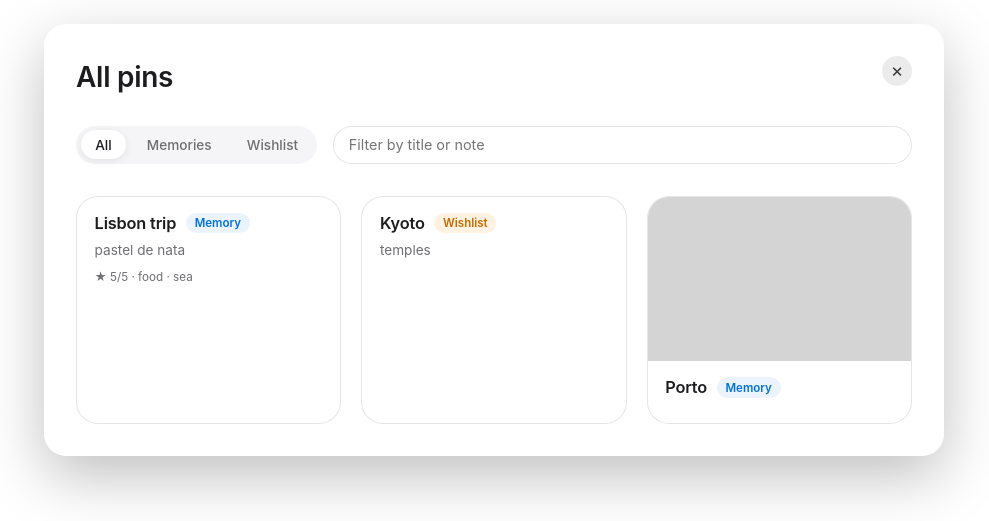
Test: AllPinsModal › filters by title or note, case-insensitively
Expected: the heading "Kyoto" is shown, x1=380 y1=213 x2=425 y2=234
Type "NATA" into the field with placeholder "Filter by title or note".
click(623, 145); type("NATA")  # box x1=333 y1=126 x2=912 y2=164
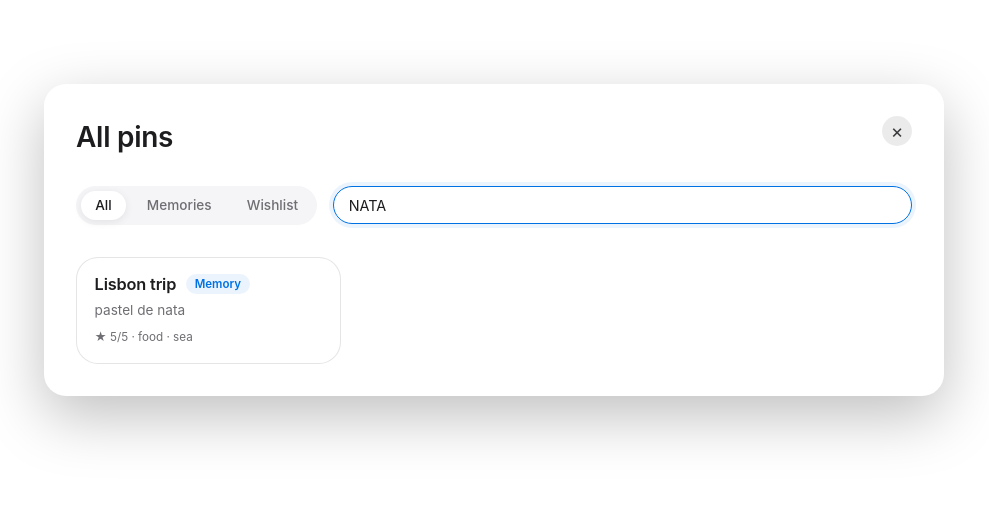
Expected: the heading "Lisbon trip" is shown, x1=95 y1=274 x2=176 y2=295
Result: the button "Kyoto" is gone
